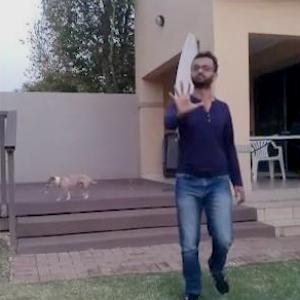follow_hand: (166, 72, 204, 117)
